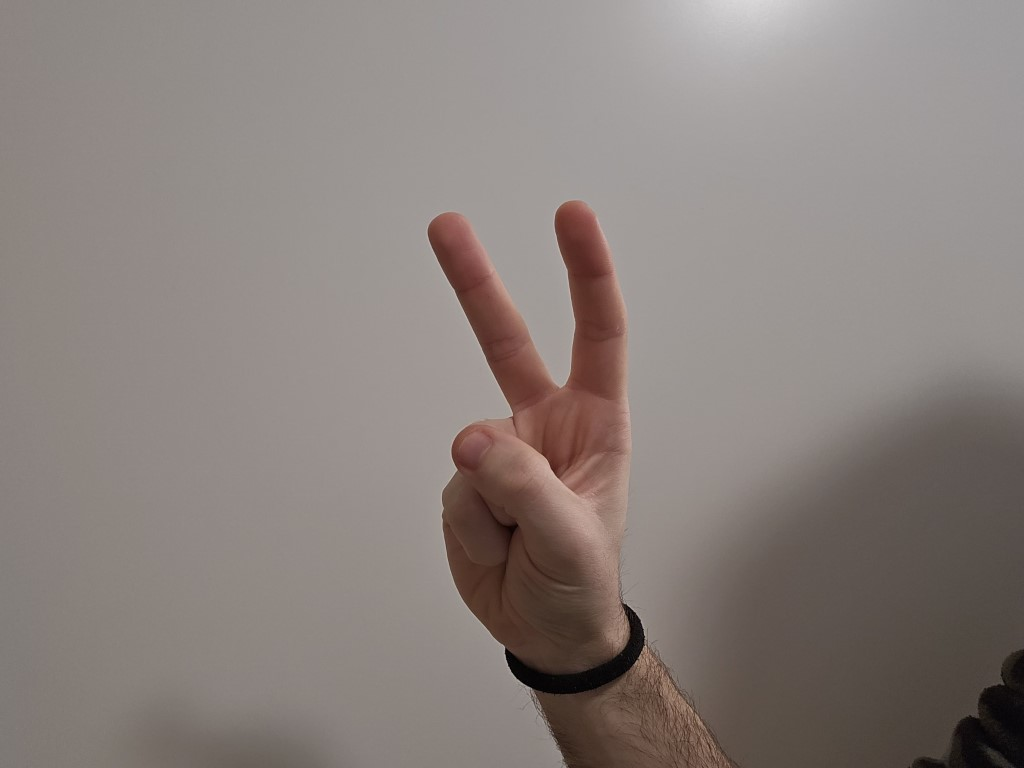v: (389, 187, 669, 666)
